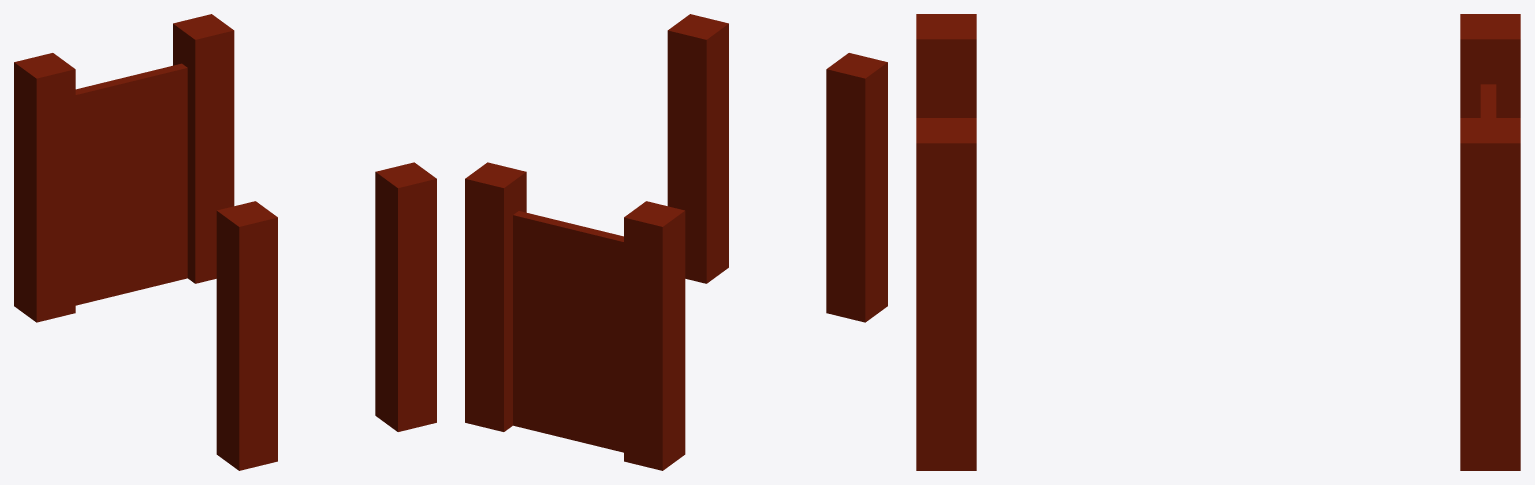
The model's file is m_BedPosts.FBX.
3 views of the same model, side by side, from view 1: azimuth 30°, elevation 25°; view 2: azimuth 150°, elevation 25°; view 3: azimuth 270°, elevation 25° (orthographic). The views are drawn at different scales.
Parts seen in each view (by area): view 1: BedPosts; view 2: BedPosts; view 3: BedPosts.
Boxes of the visible parts, bbox=[...] form: BedPosts: bbox=[14, 14, 436, 470]; BedPosts: bbox=[465, 14, 887, 470]; BedPosts: bbox=[916, 14, 1520, 470].
Bounding box in the file's own units: 46.11 × 90.94 × 54.39.
